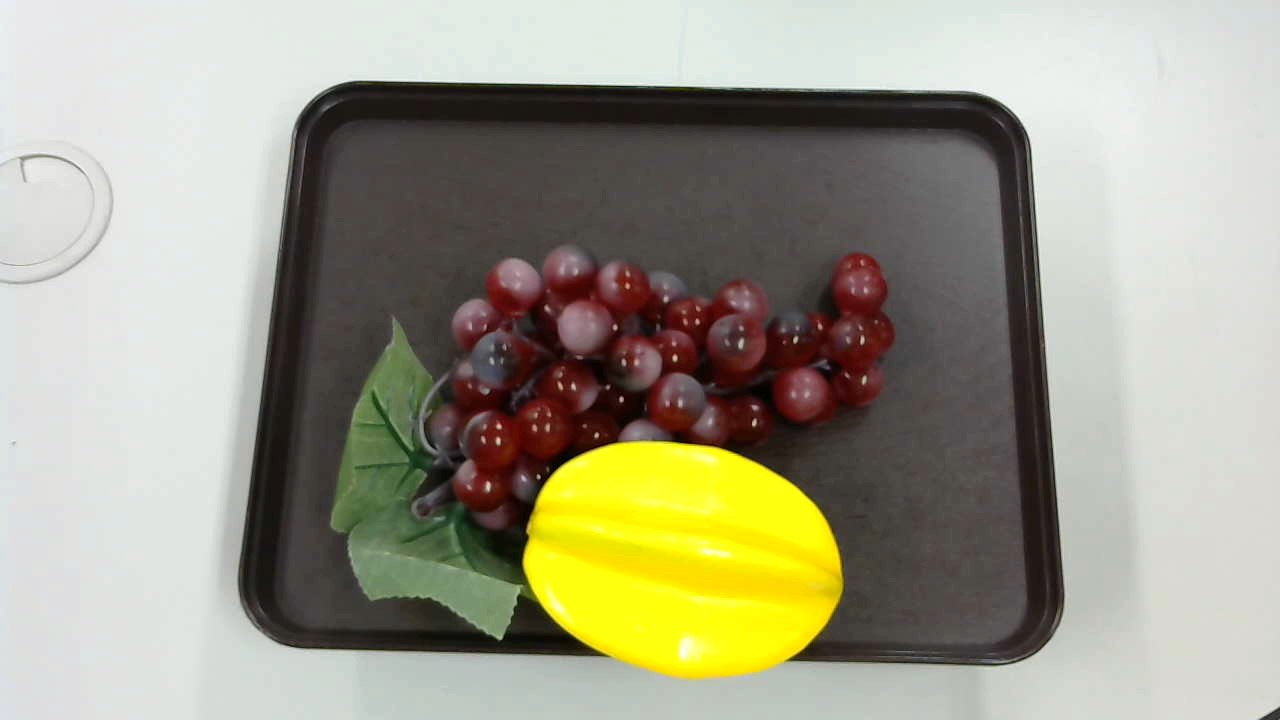grape: (324, 247, 895, 634)
star fruit: (527, 439, 842, 681)
